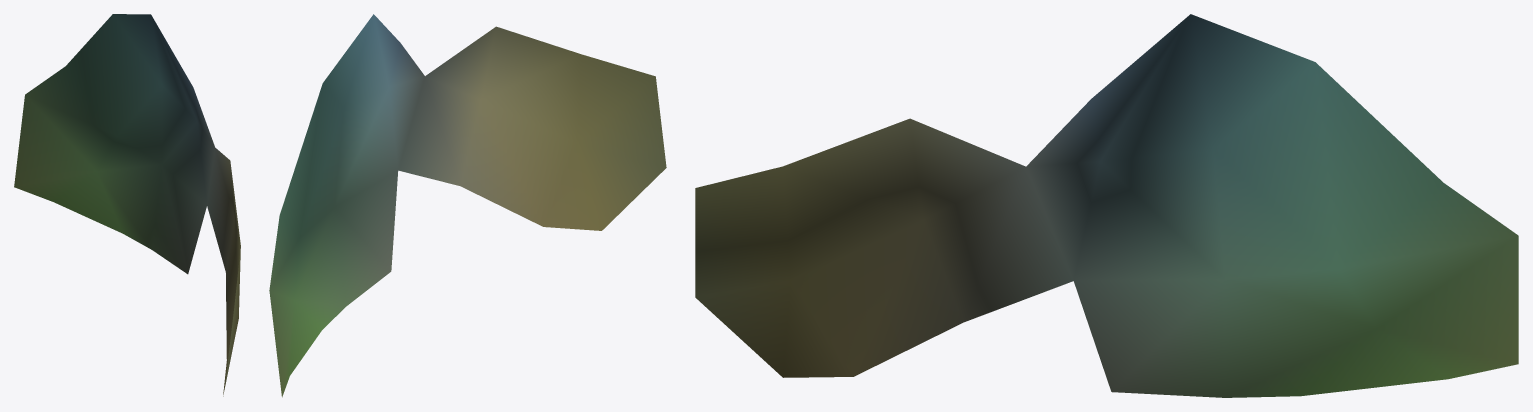
3 views of the same model, side by side, from view 1: azimuth 30°, elevation 25°; view 2: azimuth 150°, elevation 25°; view 3: azimuth 270°, elevation 25° (orthographic). The views are drawn at different scales.
Parts seen in each view (by area): view 1: starcloud235; view 2: starcloud235; view 3: starcloud235.
Boxes of the visible parts, x1,y1,x2,y2 form: starcloud235: (14,14,240,396); starcloud235: (269,14,666,397); starcloud235: (695,14,1518,397).
Bounding box in the file's own units: 0.1188 × 0.2747 × 0.5.
